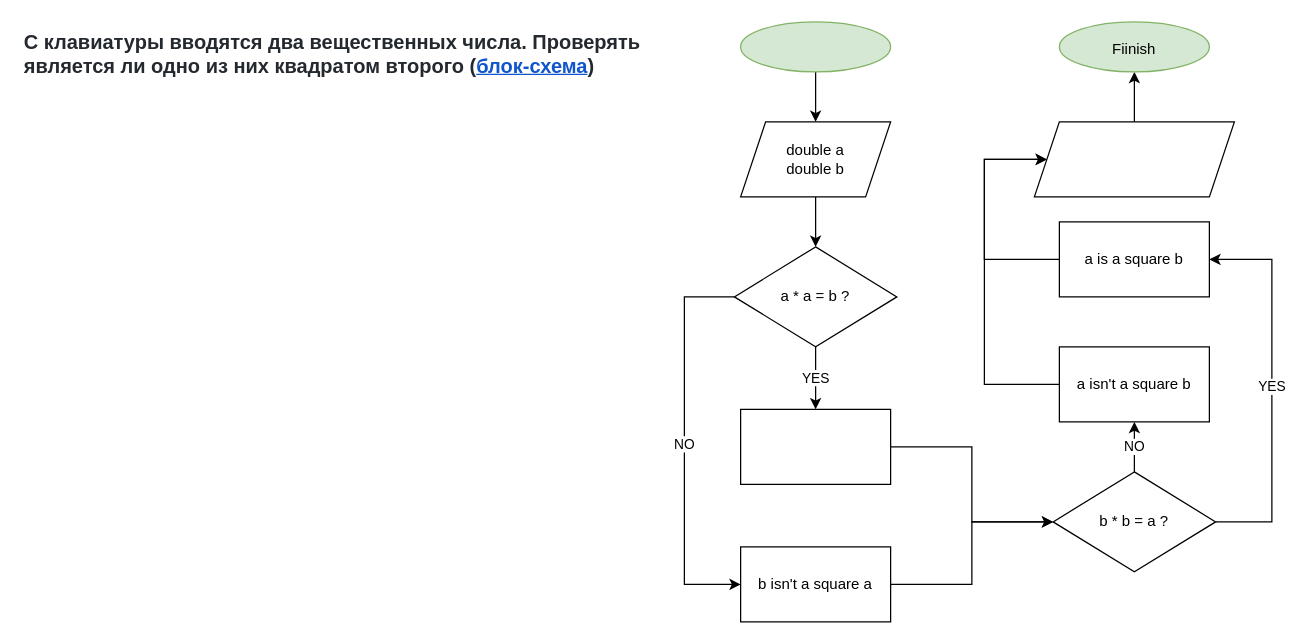
Image size: 1306x644. Some labels were removed from this diagram. The centre of each missing label's shape, as x and y in pixels:
a is a square b a isn't a square b b is a square a b isn't a square a: [1133,159]
b is a square a: [815,446]
Start: [815,46]
